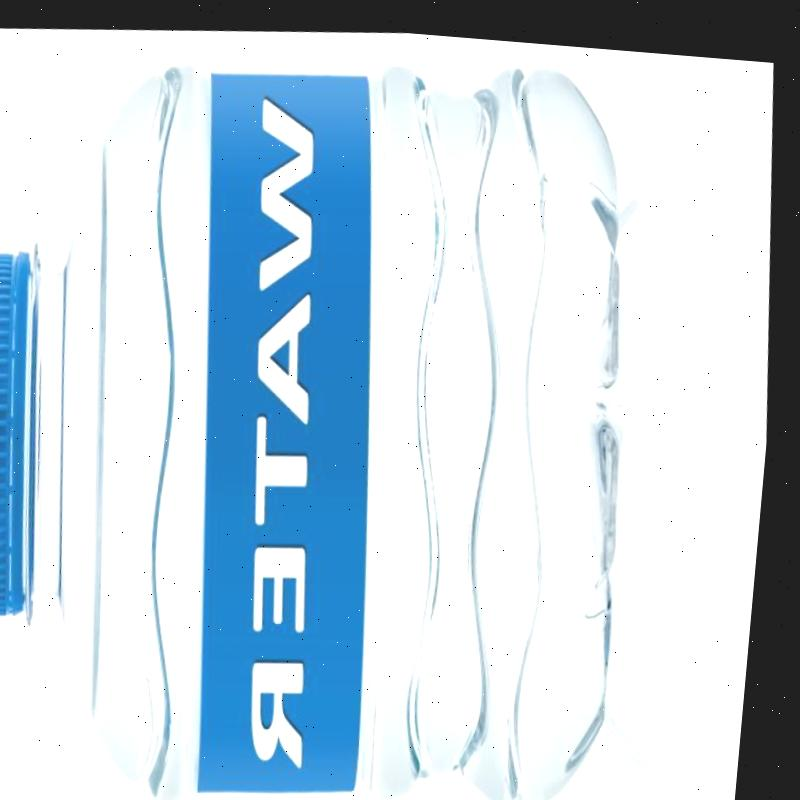botella: (0, 23, 679, 800)
